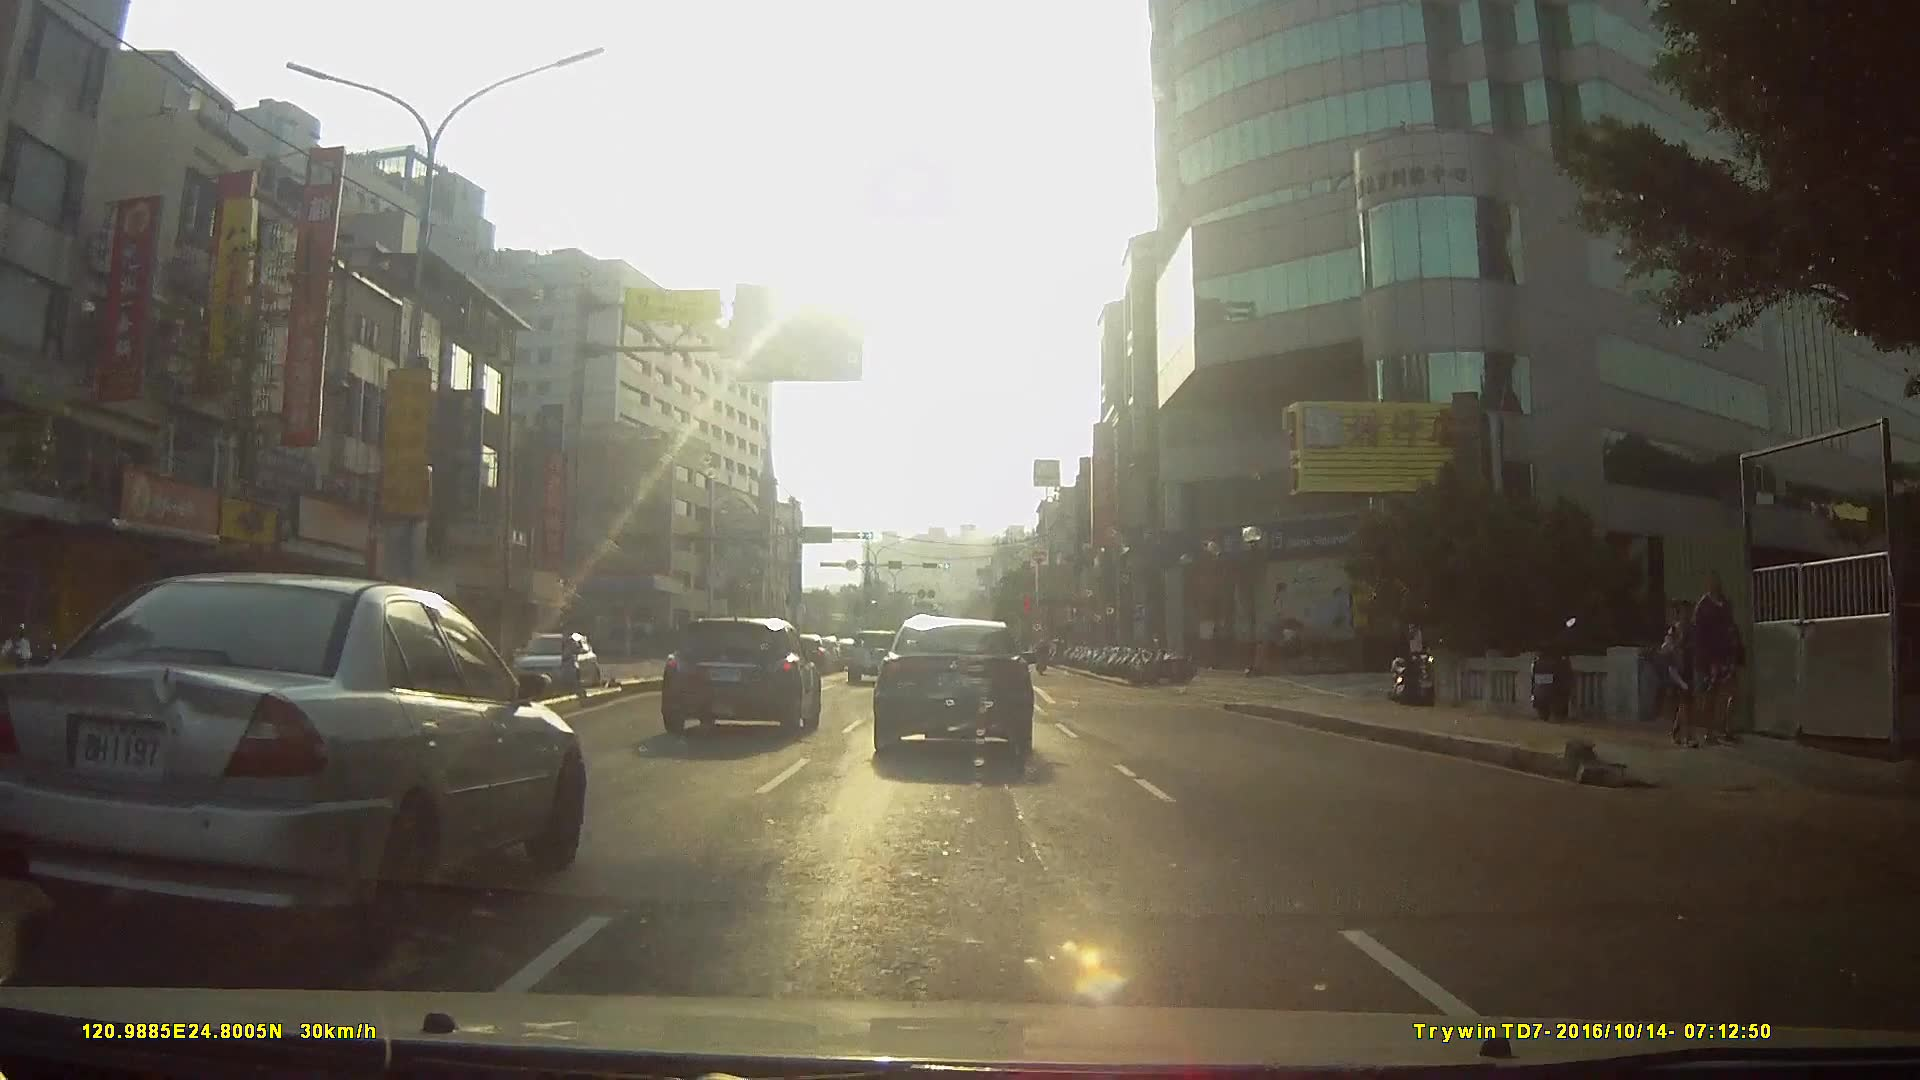pedestrian: (1684, 580, 1749, 751), (1657, 598, 1723, 756)
vehicle: (0, 569, 584, 951), (871, 617, 1035, 764), (657, 613, 820, 738), (502, 634, 601, 703), (844, 629, 904, 686)
